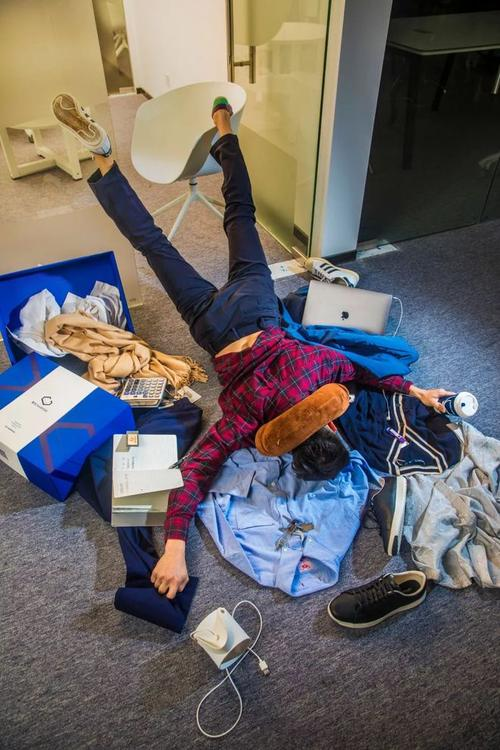down: (37, 70, 462, 588)
